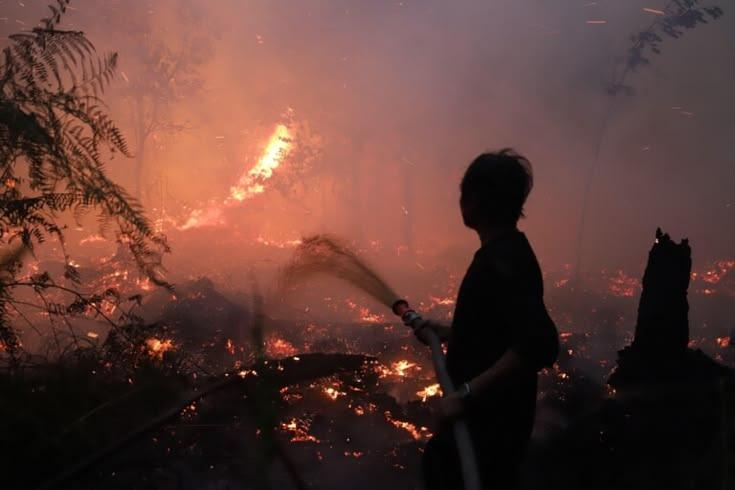Manusia: (415, 151, 568, 479)
Titik Api: (154, 120, 303, 268), (587, 253, 647, 310), (267, 406, 329, 459), (77, 261, 159, 301), (691, 242, 735, 310), (136, 312, 179, 380), (400, 281, 461, 327), (76, 280, 124, 333), (333, 290, 393, 331), (382, 405, 429, 448), (68, 224, 113, 265), (254, 326, 304, 362), (378, 351, 415, 384)
Vegetasi: (0, 0, 175, 292), (586, 0, 718, 110)
